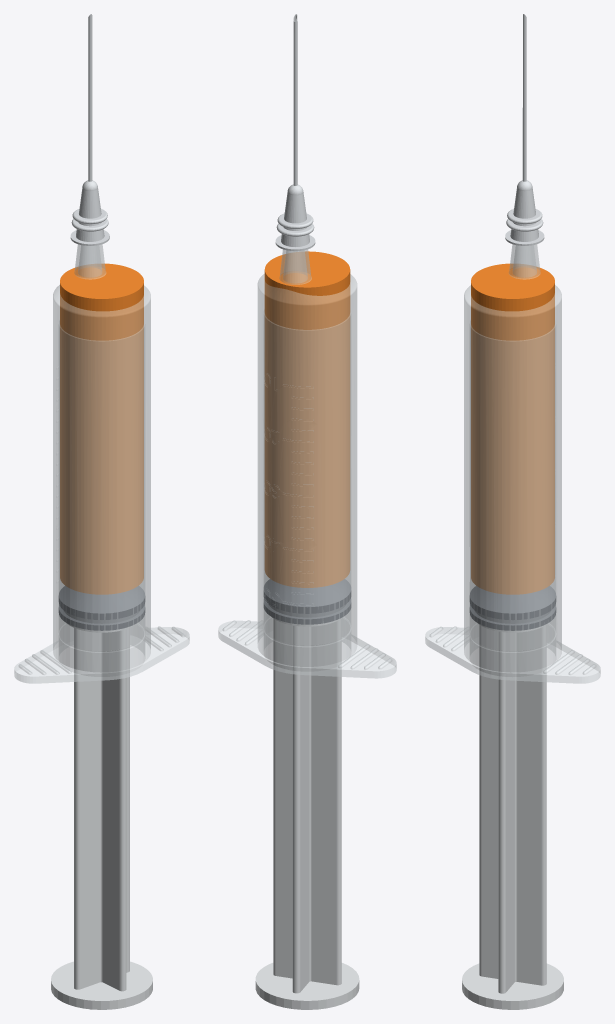
Rendered from syringe-orange.glb.
3 renders of one model, left to right at view 1: azimuth 30°, elevation 25°; view 2: azimuth 150°, elevation 25°; view 3: azimuth 330°, elevation 25°, orthographic.
Visible parts, largest first — view 1: barrel, drug, plunger, rubber, needle; view 2: barrel, drug, plunger, rubber, needle; view 3: barrel, drug, plunger, rubber, needle.
Boxes of the visible parts, x1=… form: barrel: x1=14, y1=244, x2=189, y2=683; drug: x1=60, y1=263, x2=143, y2=594; plunger: x1=51, y1=624, x2=152, y2=1009; rubber: x1=58, y1=586, x2=145, y2=630; needle: x1=70, y1=14, x2=109, y2=245; barrel: x1=218, y1=249, x2=396, y2=678; drug: x1=264, y1=251, x2=350, y2=587; plunger: x1=255, y1=617, x2=359, y2=1009; rubber: x1=263, y1=579, x2=351, y2=624; needle: x1=275, y1=14, x2=315, y2=251; barrel: x1=425, y1=244, x2=600, y2=683; drug: x1=471, y1=263, x2=554, y2=594; plunger: x1=462, y1=624, x2=563, y2=1009; rubber: x1=469, y1=586, x2=556, y2=630; needle: x1=505, y1=14, x2=544, y2=245.
Bounding box in the file's own units: 50 × 272 × 25.98.
